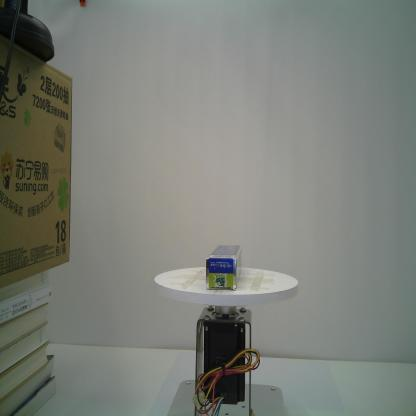Personal Hygiene: (205, 244, 242, 291)
